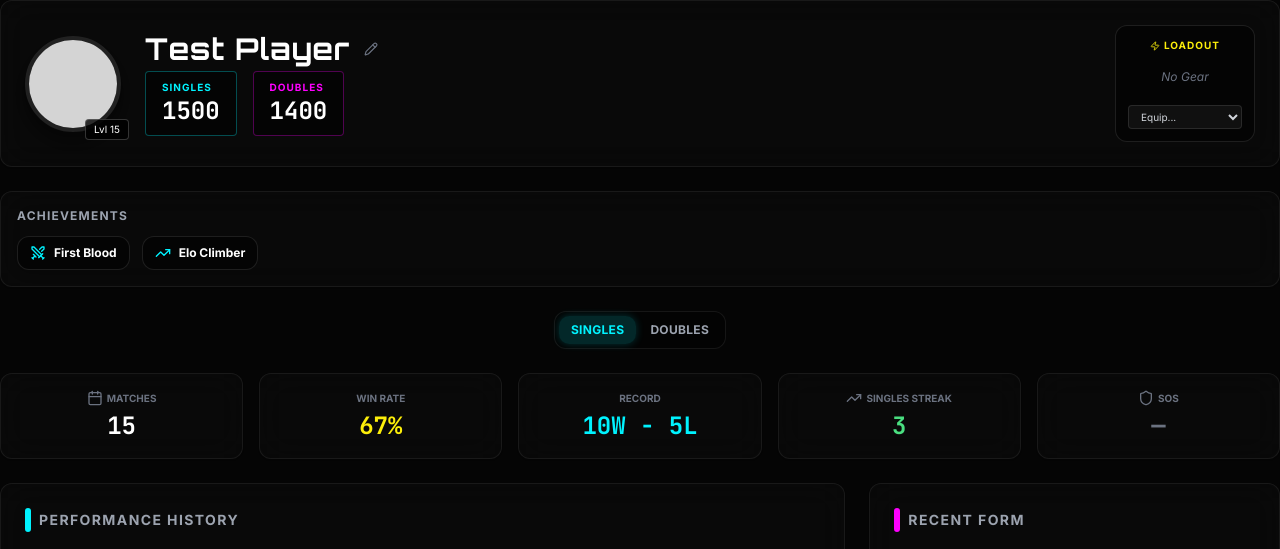
it: PlayerProfile - Existing Features Verification › Admin Name Editing (Requirement 6.3) › should show input field when edit button is clicked
The image size is (1280, 549).
What coordinates should you click on to do the following:
click the button
I would click on:
 (371, 49)
Its box is 358,36 -> 384,62.
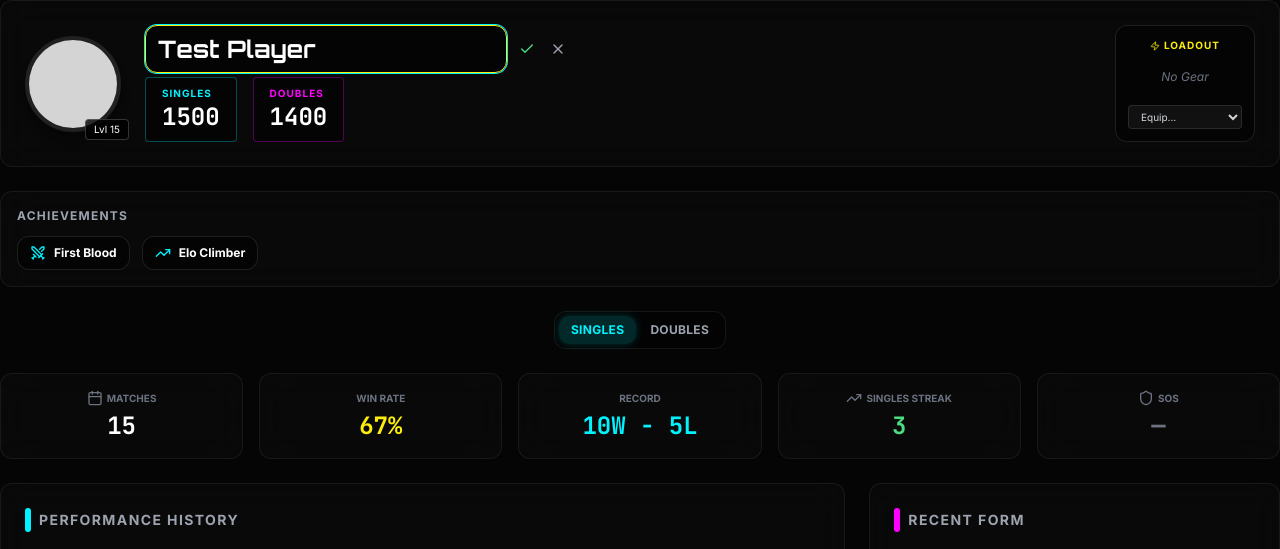
Now the field showing "Test Player" is shown, box 145,25 -> 507,73
